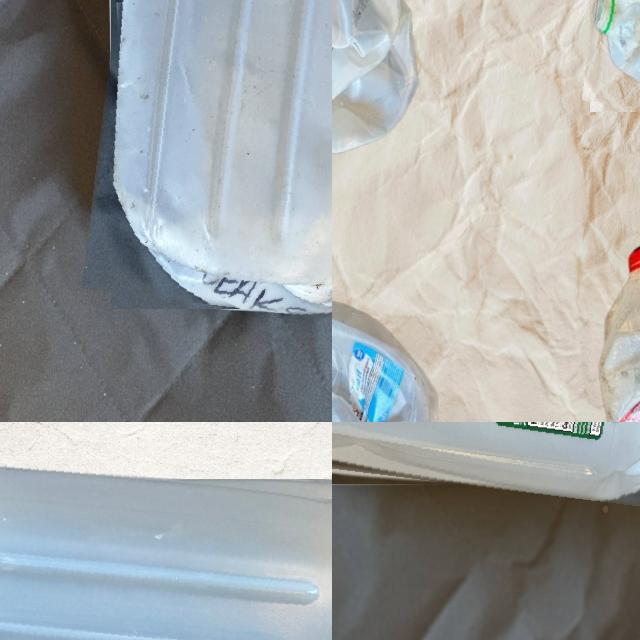milk-jug: (96, 0, 332, 318), (0, 466, 332, 640), (332, 422, 640, 496), (332, 295, 432, 422), (332, 0, 411, 151)
